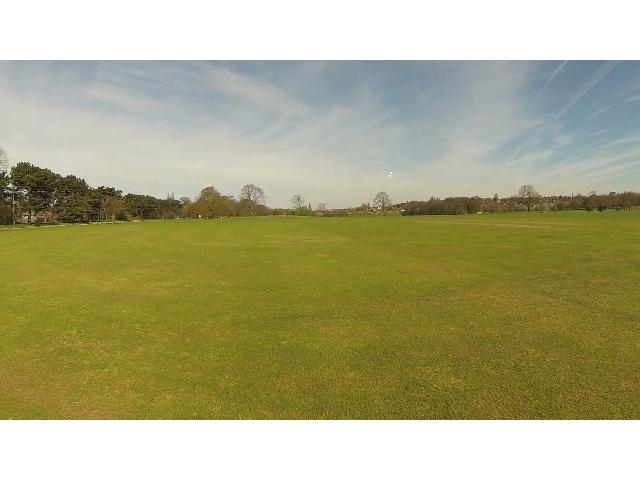Anti-Drone: (379, 163, 405, 185)
